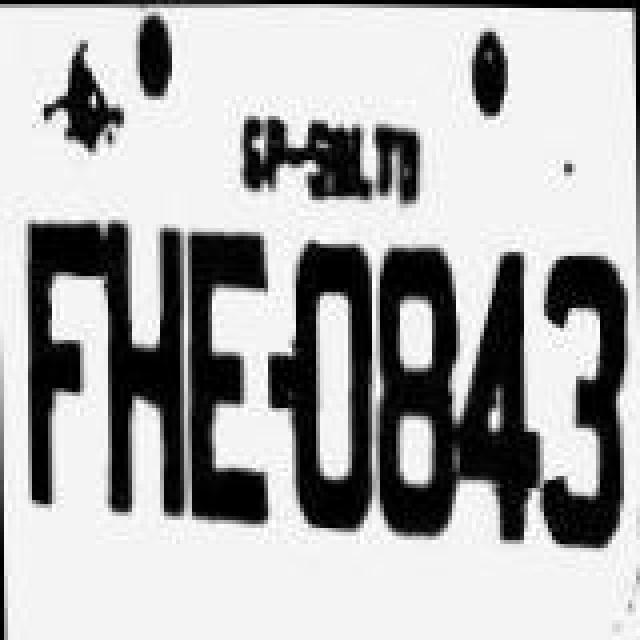3: (532, 250, 632, 554)
4: (454, 246, 542, 542)
8: (374, 246, 462, 542)
E: (180, 230, 268, 530)
F: (18, 218, 110, 510)
H: (100, 216, 188, 532)
O: (296, 240, 380, 536)
